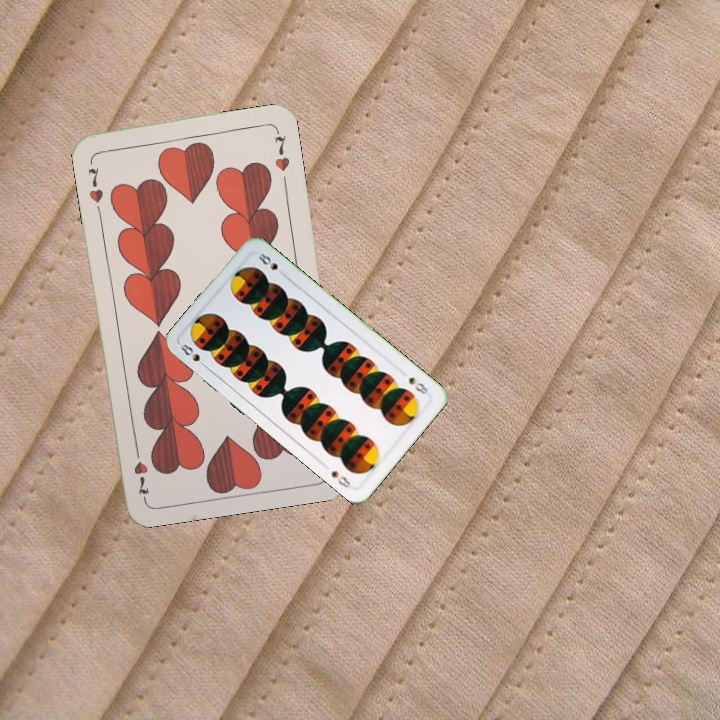H7: (83, 163, 106, 205)
S8: (177, 340, 211, 371), (405, 373, 434, 397)
